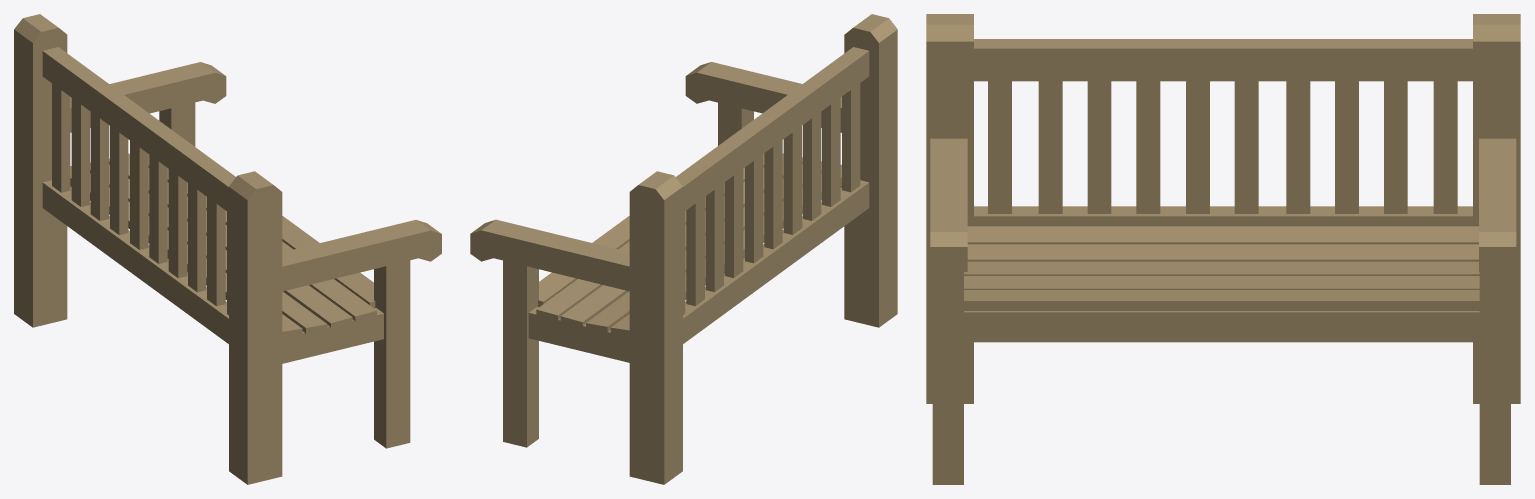
File: FP Bench combined.fbx
3 renders of one model, left to right at view 1: azimuth 30°, elevation 25°; view 2: azimuth 150°, elevation 25°; view 3: azimuth 270°, elevation 25°, orthographic. The views are drawn at different scales.
Parts seen in each view (by area): view 1: pCube29; view 2: pCube29; view 3: pCube29.
Boxes of the visible parts, x1,y1,x2,y2 form: pCube29: (14,14,441,484); pCube29: (470,14,897,484); pCube29: (926,14,1520,484).
Size of the model in its own units: 5.81 by 8.32 by 12.
